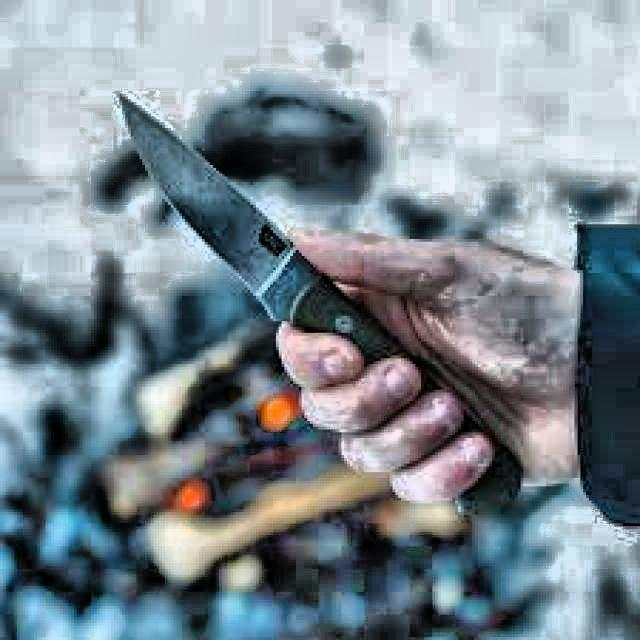knife: (116, 83, 525, 519)
